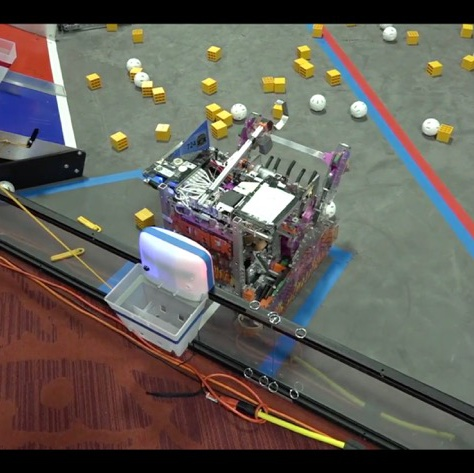robot: (142, 111, 353, 345)
